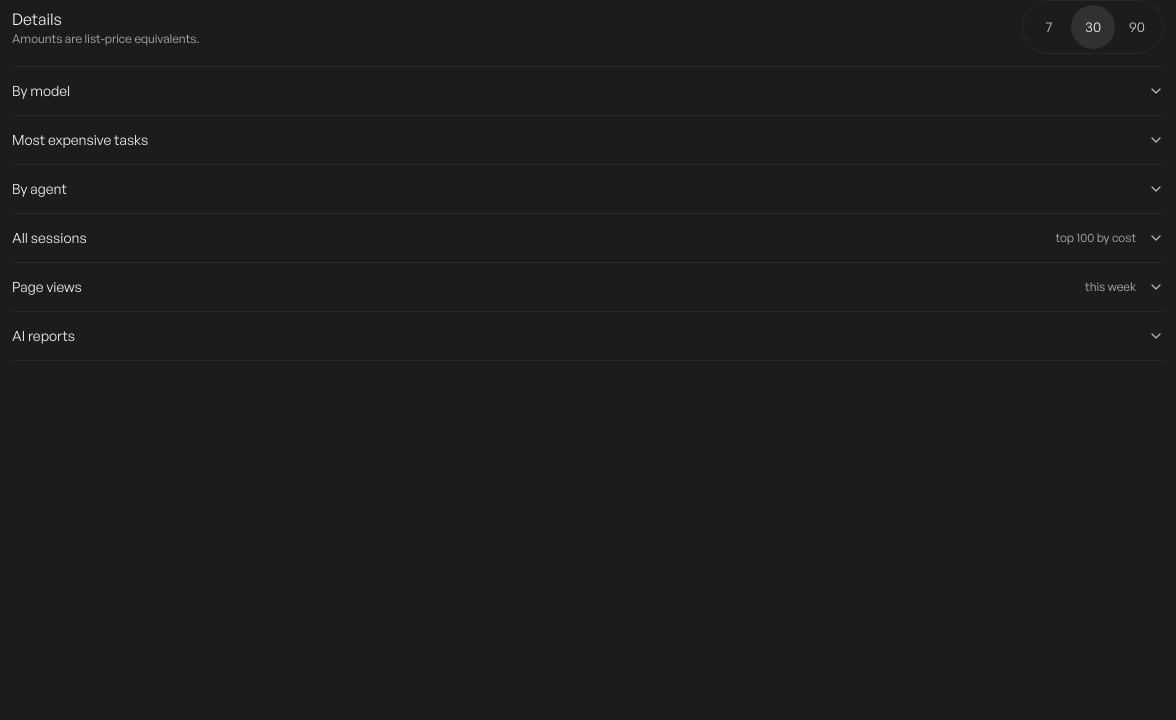
Test: InsightsDetails › loads the session list only when it is opened
Click the button "All sessions top 100 by cost" at (49, 238), box [12,214,1164,262]
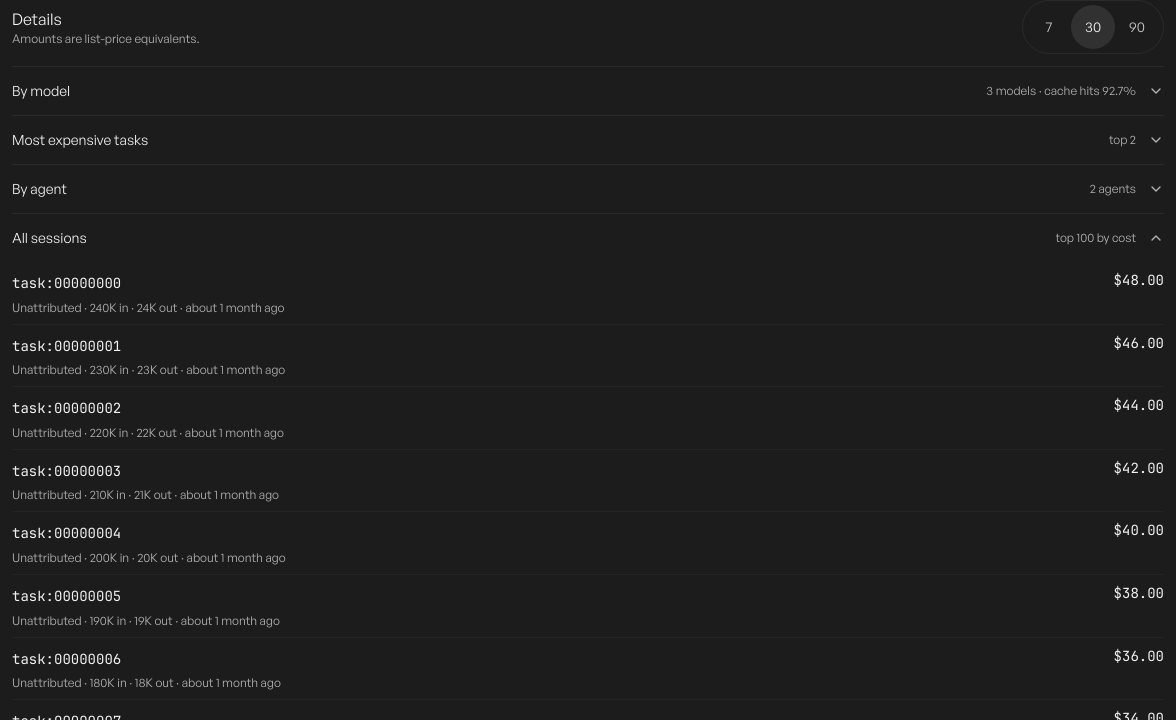
Expected: the 1st text "task:00000000" is shown, [12,274,121,292]
